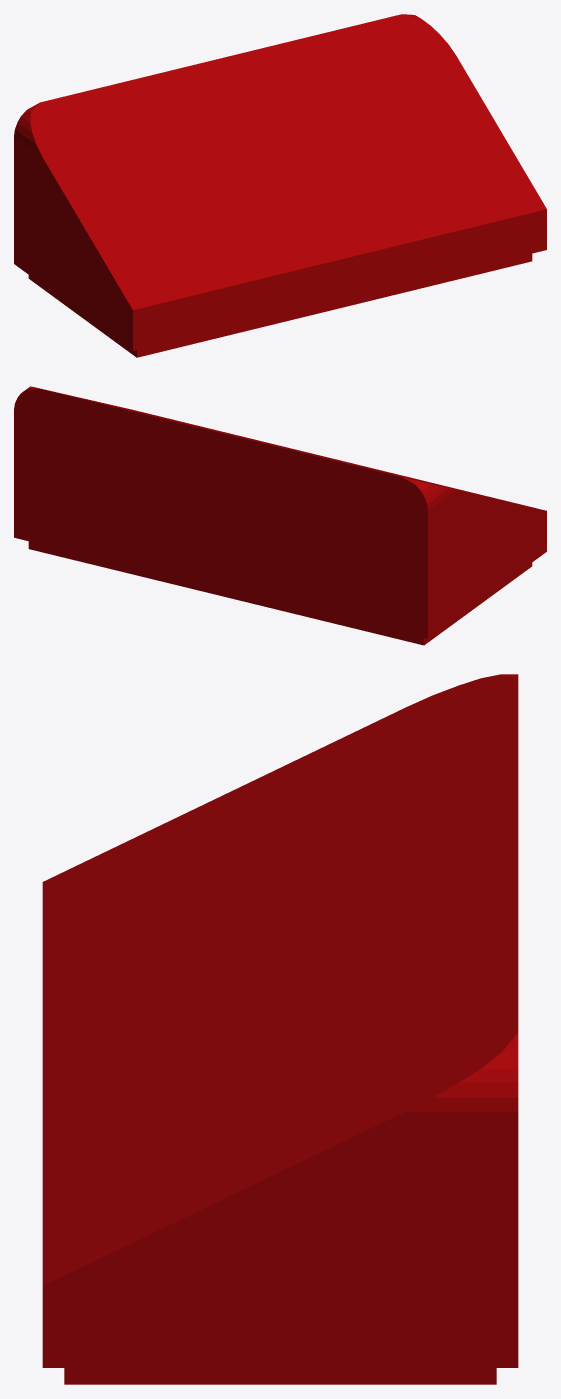
Rendered from 85984 roof tile 1x2.dae.
3 views of the same model, one above another, from view 1: azimuth 30°, elevation 25°; view 2: azimuth 150°, elevation 25°; view 3: azimuth 270°, elevation 25° (orthographic). The views are drawn at different scales.
Parts seen in each view (by area): view 1: Part_85984.1; view 2: Part_85984.1; view 3: Part_85984.1.
Boxes of the visible parts, x1=… form: Part_85984.1: x1=14, y1=14, x2=546, y2=357; Part_85984.1: x1=14, y1=386, x2=546, y2=645; Part_85984.1: x1=42, y1=674, x2=518, y2=1384.
Bounding box in the file's own units: 15.92 × 6.18 × 7.92.
